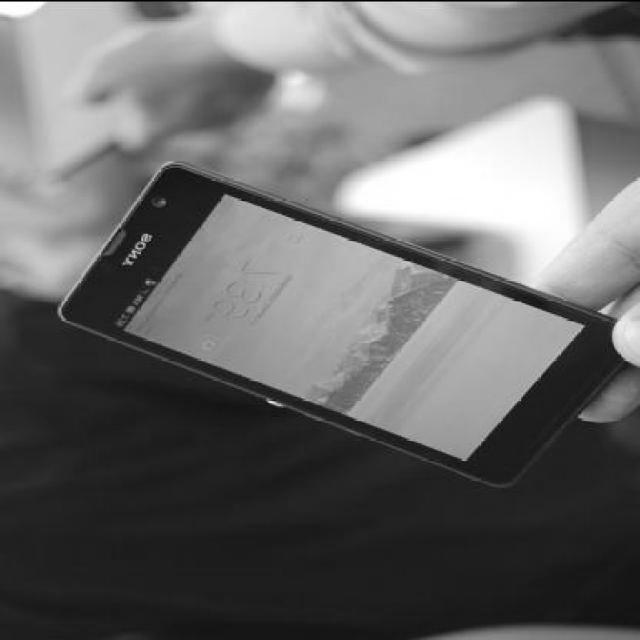fake: (52, 160, 634, 489)
